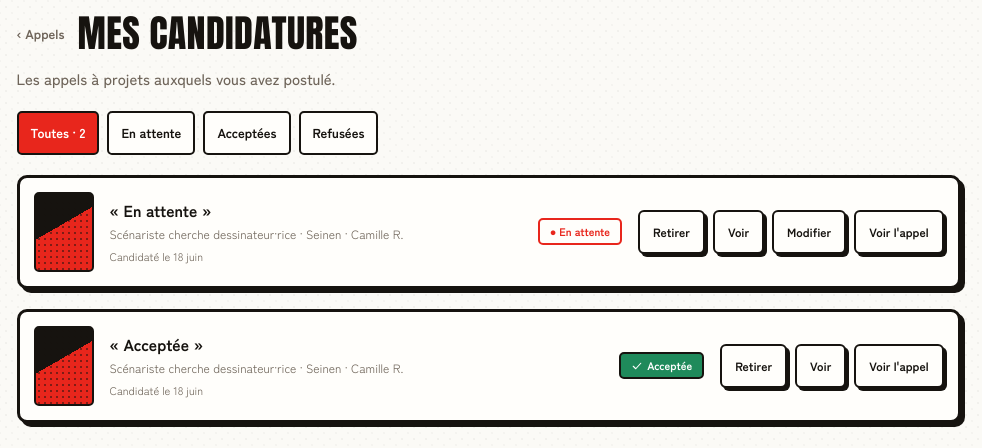
Test: MesCandidaturesClient (MC-6) › withdraws a pending application via inline confirm and removes the row
expect the text "« En attente »" is shown: met, box [110,198,211,222]
Both pending and accepted rows now offer "Retirer" (MC-6 amendment) — scope to the pending row.
Click the button "Retirer" in the row of "« En attente »" at (672, 232), box [638,210,705,254]
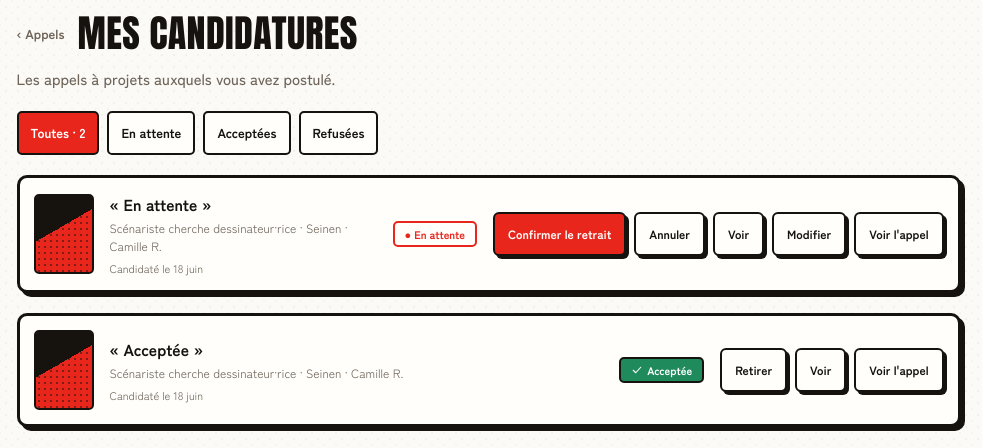
Click the button "Confirmer le retrait" at (560, 234), box [493,212,626,256]
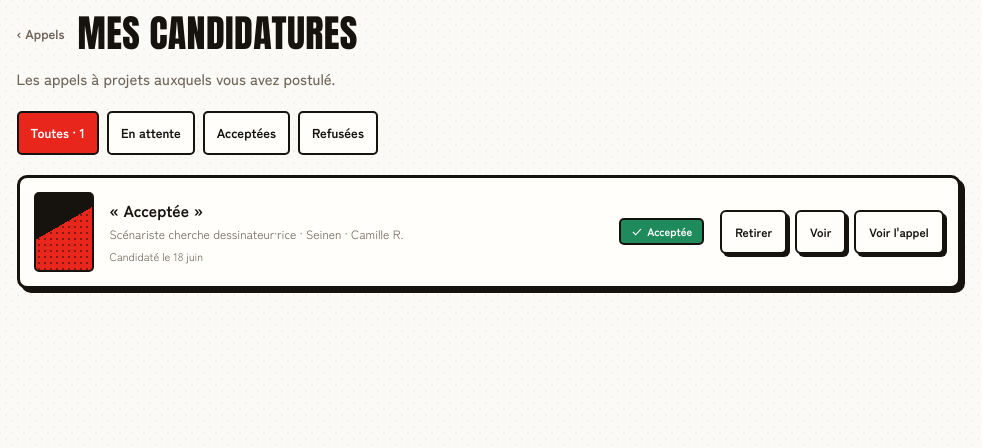
expect the text "« Acceptée »" is shown: met, box [110,198,203,222]
expect the text "« En attente »" is gone: met
expect the button "Toutes · 1" is shown: met, box [16,110,99,154]
